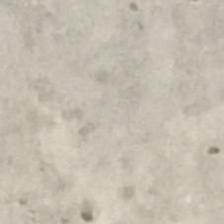Non_Crack: (32, 40, 224, 182)
